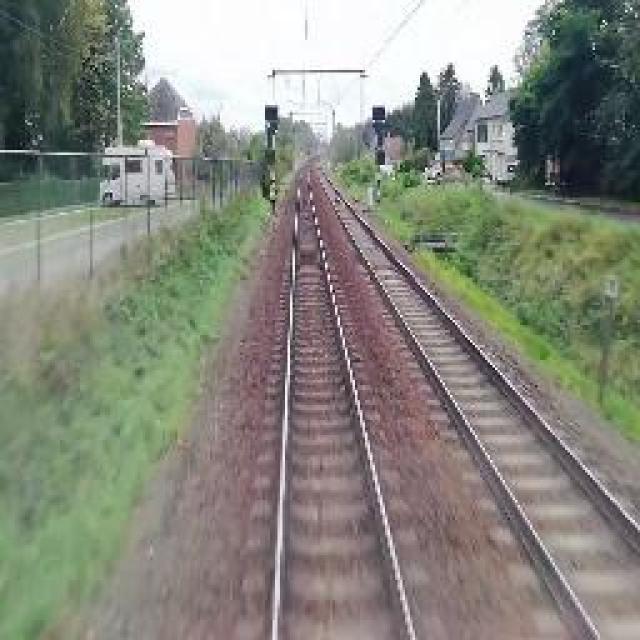rail: (246, 167, 460, 640)
